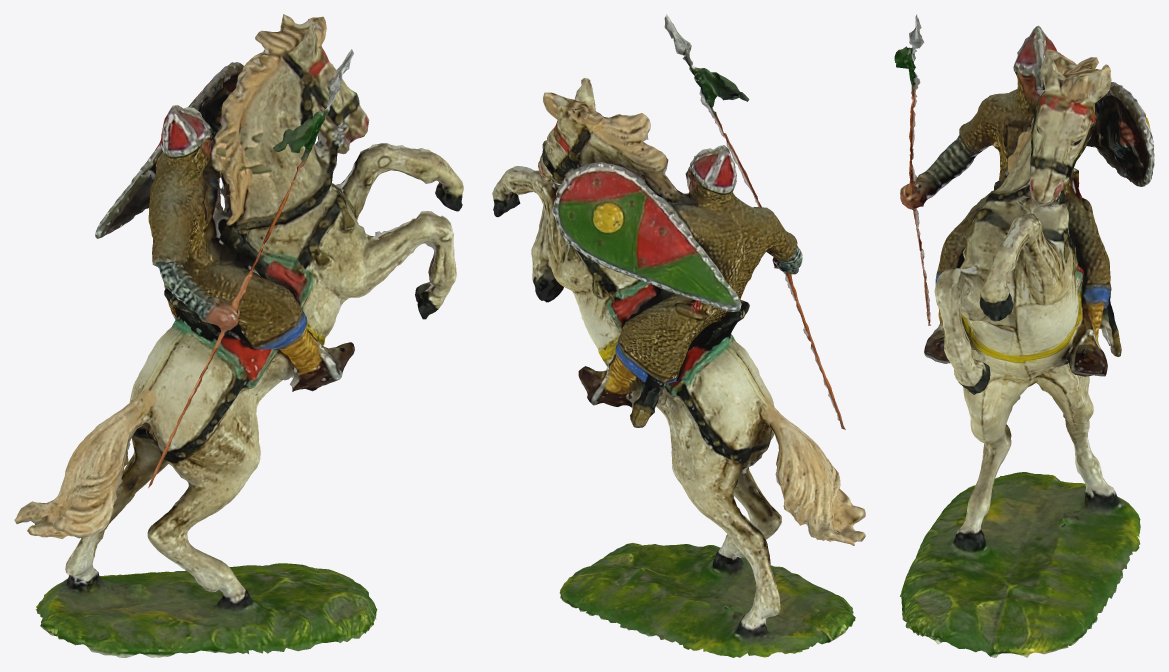
The model's file is elastolin_norman_horseman_with_sound.glb.
3 views of the same model, side by side, from view 1: azimuth 30°, elevation 25°; view 2: azimuth 150°, elevation 25°; view 3: azimuth 270°, elevation 25° (orthographic). The views are drawn at different scales.
Visible parts, largest first — view 1: Object_2; view 2: Object_2; view 3: Object_2.
Boxes of the visible parts, x1,y1,x2,y2 form: Object_2: [14, 14, 463, 657]; Object_2: [492, 14, 865, 657]; Object_2: [894, 14, 1154, 657].
Size of the model in its own units: 2.28 by 3.07 by 1.18.
1 material, 1 textured.
